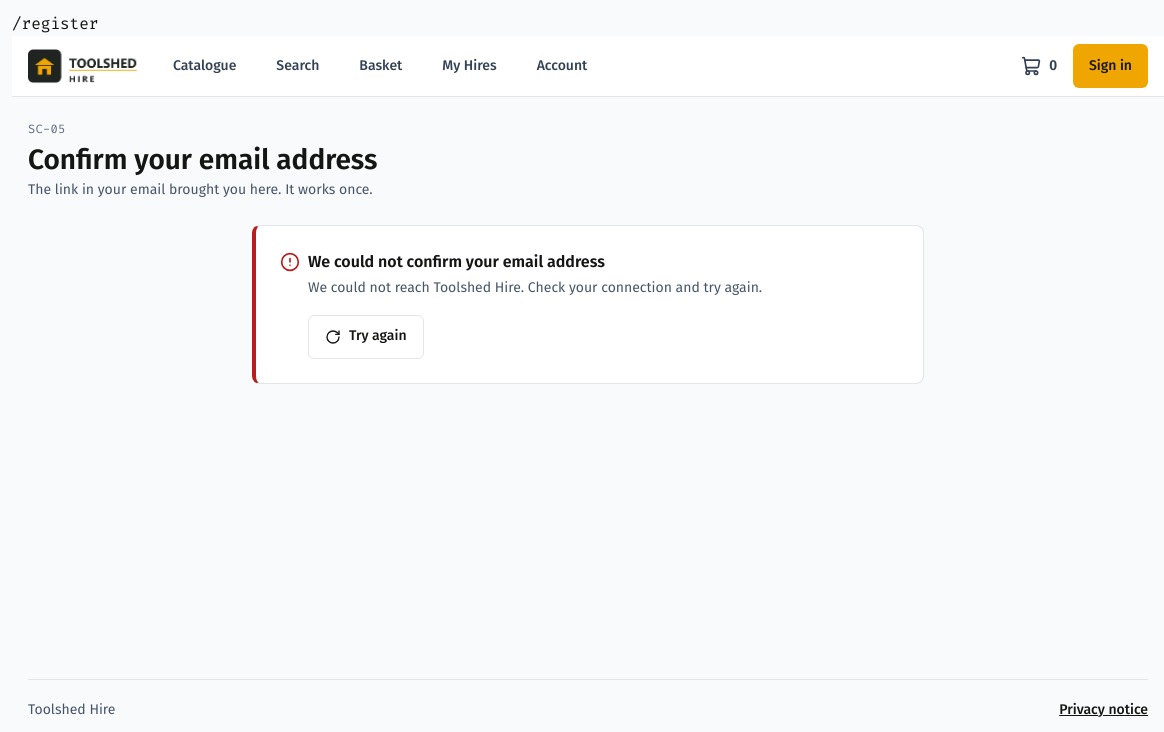
Test case: a verification that could not be made › keeps the token for a retry when the API cannot be reached, and confirms on the second try
Check: the message shows "We could not confirm your email address", box [308,252,605,271]
Step 1. Click the button "Try again" → (366, 337), box [308,315,424,359]
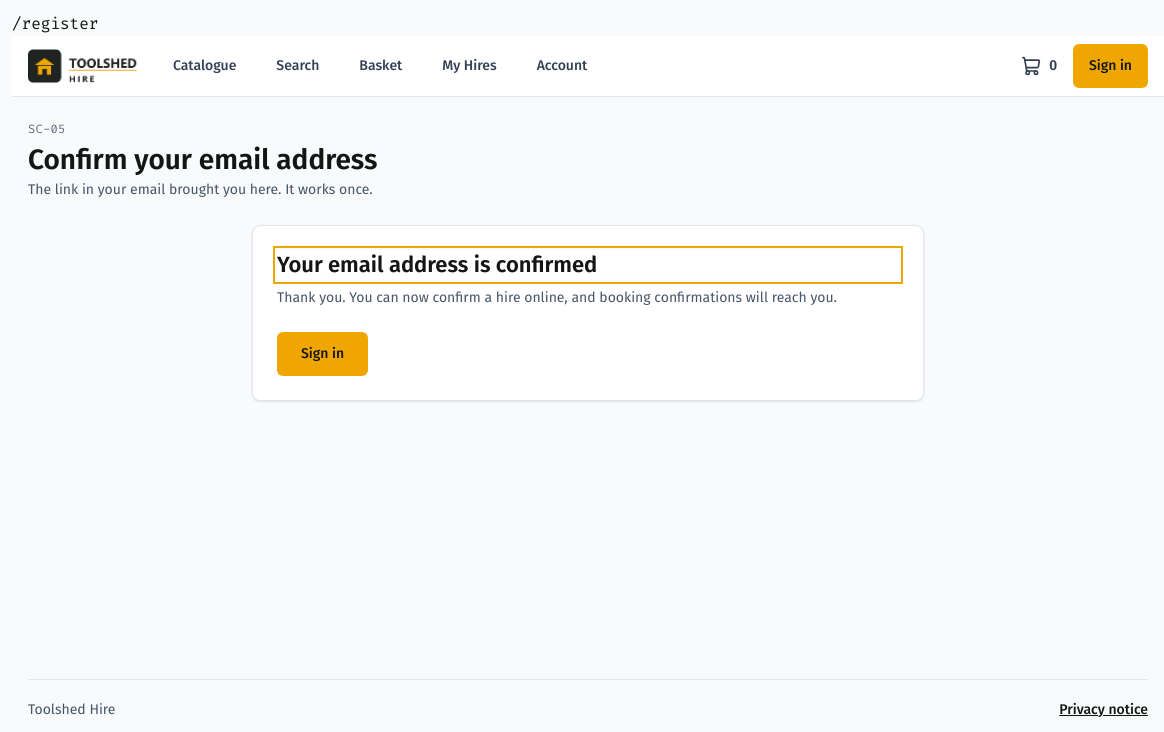
Check: the heading "Your email address is confirmed" is shown, box [277,250,899,280]
